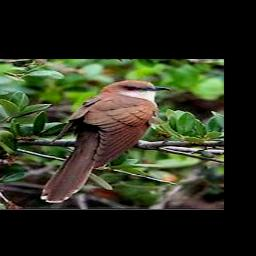Cuckoo: (41, 80, 171, 202)
